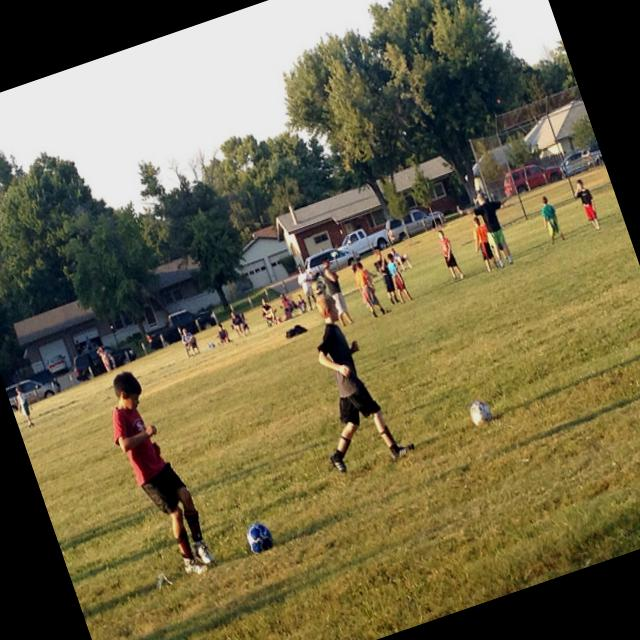Vehicle: (143, 302, 218, 352), (70, 336, 140, 382), (382, 200, 448, 246), (499, 154, 565, 198), (300, 236, 362, 282), (332, 220, 392, 264), (5, 369, 62, 412), (577, 138, 604, 170), (559, 156, 589, 178), (164, 307, 194, 329), (44, 352, 70, 376)
